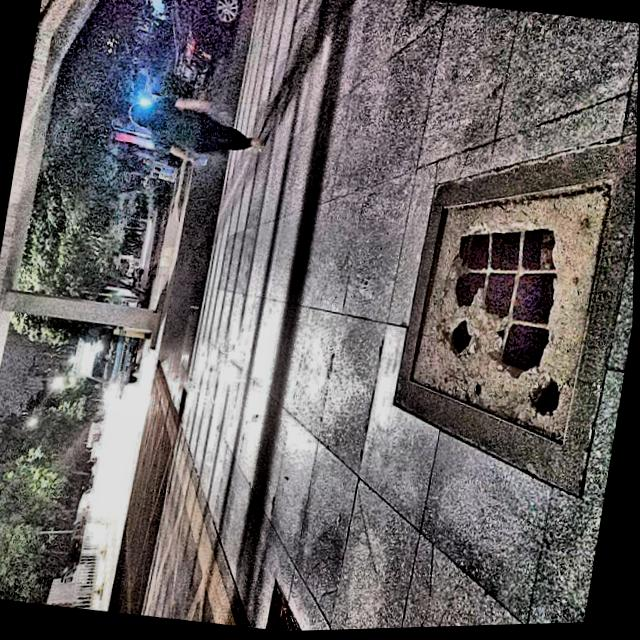open_manhole: (394, 152, 636, 494)
